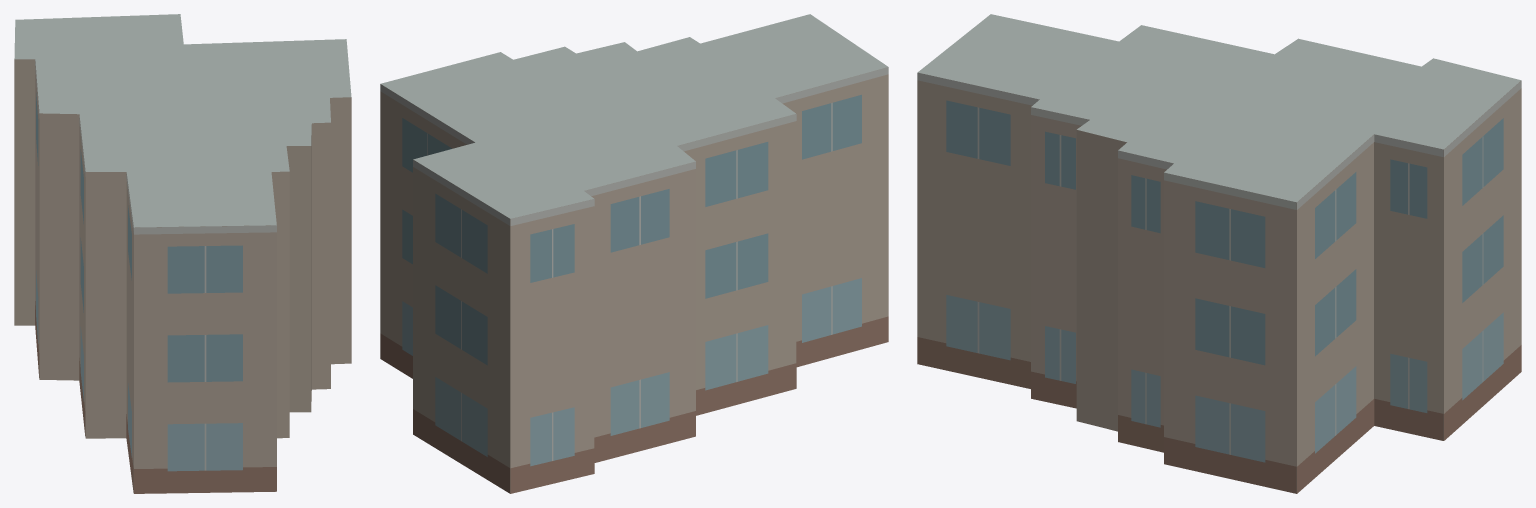
Rendered from survey-upis-32591329.glb.
The picture shows the model from 3 angles, left to right: view 1: azimuth 30°, elevation 25°; view 2: azimuth 150°, elevation 25°; view 3: azimuth 270°, elevation 25°; orthographic projection. The views are drawn at different scales.
Parts seen in each view (by area): view 1: survey-upis-32591329.tmp; view 2: survey-upis-32591329.tmp; view 3: survey-upis-32591329.tmp.
Part boxes in pixels (x1,y1,x2,y2): survey-upis-32591329.tmp: (14,14,351,493); survey-upis-32591329.tmp: (380,14,888,493); survey-upis-32591329.tmp: (917,14,1521,493).
Size of the model in its own units: 12.68 by 9.15 by 17.19.
